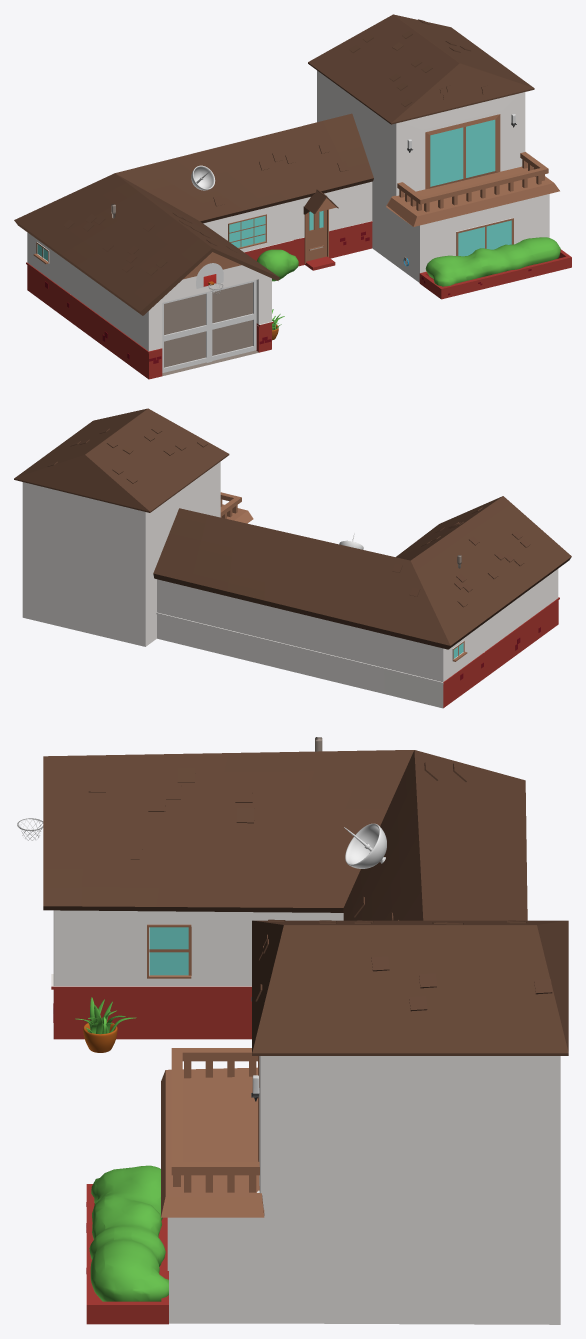
The model's file is RICKANDMORTY-7.fbx.
The picture shows the model from 3 angles, top to bottom: view 1: azimuth 30°, elevation 25°; view 2: azimuth 150°, elevation 25°; view 3: azimuth 270°, elevation 25°; orthographic projection. The views are drawn at different scales.
Visible parts, largest first — view 1: House, Roof-1, Roof-2, bushes, garage.007, bar, door, Front-Window, bar.002, PUERTA.ROOF, Antenna; view 2: House, Roof-1, Roof-2; view 3: House, Roof-1, Roof-2, garage.007, bushes, bar, garage.012, Antenna, Plant, bar.003.
Part boxes in pixels (x1,y1,x2,y2): House: (26, 70, 571, 379); Roof-1: (14, 113, 373, 315); Roof-2: (308, 14, 534, 124); bushes: (257, 237, 560, 286); garage.007: (386, 163, 559, 226); bar: (397, 152, 548, 204); door: (304, 209, 328, 263); Front-Window: (228, 214, 266, 248); bar.002: (424, 175, 541, 211); PUERTA.ROOF: (303, 189, 338, 214); Antenna: (191, 165, 215, 190); House: (22, 461, 559, 708); Roof-1: (153, 496, 571, 649); Roof-2: (14, 408, 229, 512); House: (51, 910, 560, 1324); Roof-1: (43, 750, 527, 920); Roof-2: (252, 920, 568, 1055); garage.007: (161, 1067, 264, 1217); bushes: (89, 1165, 168, 1301); bar: (171, 1048, 259, 1175); garage.012: (147, 924, 191, 978); Antenna: (344, 823, 386, 868); Plant: (75, 997, 136, 1052); bar.003: (184, 1061, 256, 1192).
Size of the model in its own units: 2019 by 784 by 1126.
